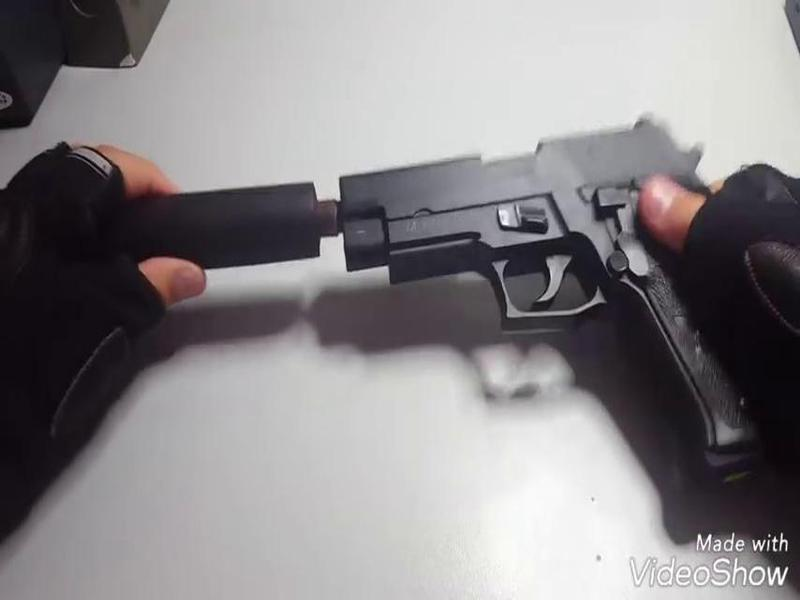Pistola: (341, 97, 800, 512)
